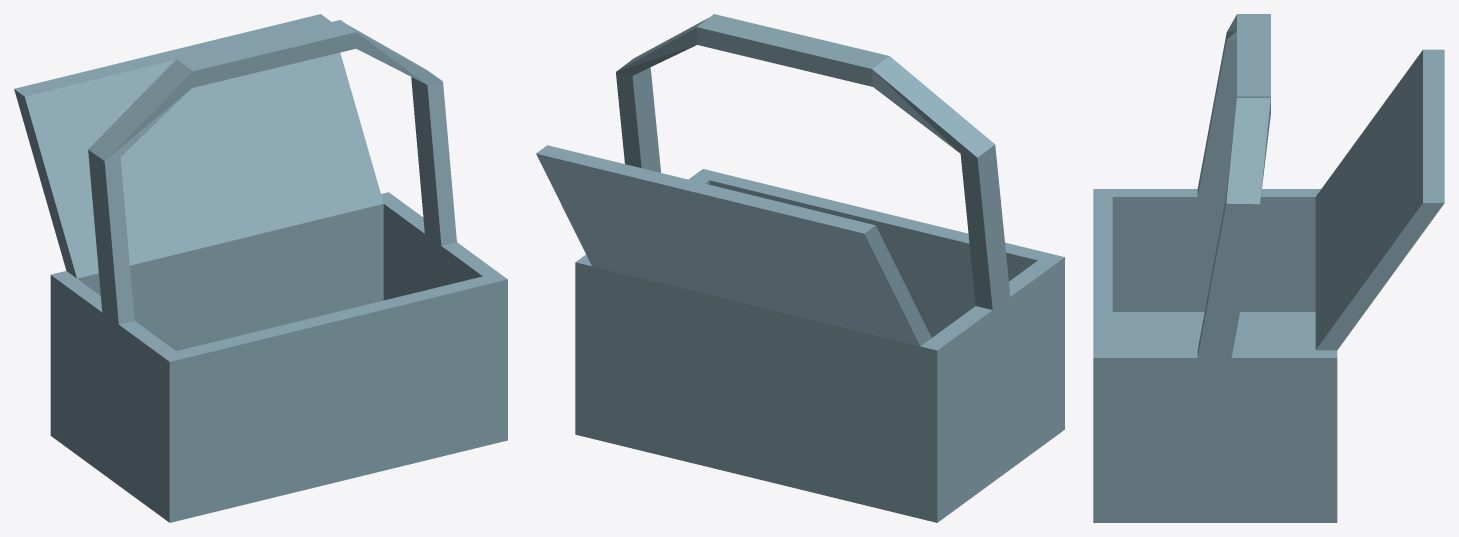
The model's file is model_cooler.fbx.
3 views of the same model, side by side, from view 1: azimuth 30°, elevation 25°; view 2: azimuth 150°, elevation 25°; view 3: azimuth 270°, elevation 25° (orthographic). The views are drawn at different scales.
Visible parts, largest first — view 1: pCube1; view 2: pCube1; view 3: pCube1.
Part boxes in pixels (<box>): pCube1: <box>14,14,507,522</box>; pCube1: <box>536,14,1064,522</box>; pCube1: <box>1093,14,1444,522</box>.
Size of the model in its own units: 3.49 by 3.73 by 3.07.
